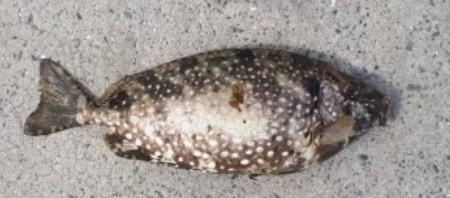fish: (24, 48, 389, 173)
